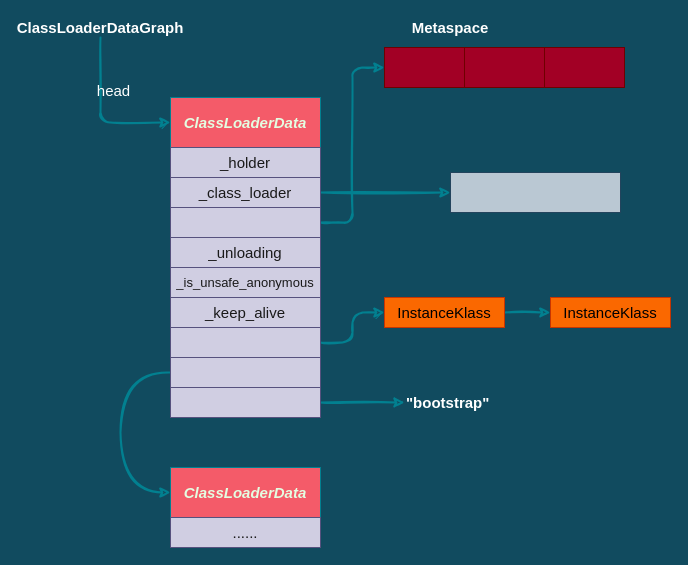
Image size: 688x565. Some labels were removed from this diagram. The centre of each missing label's shape, as x and y in pixels:
"_klasses" belongs at point (245, 342).
"_metaspace" belongs at point (245, 222).
"_name" belongs at point (245, 402).
"_next" belongs at point (245, 372).
"instanceOop (java.lang.ClassLoader)" belongs at point (535, 192).
